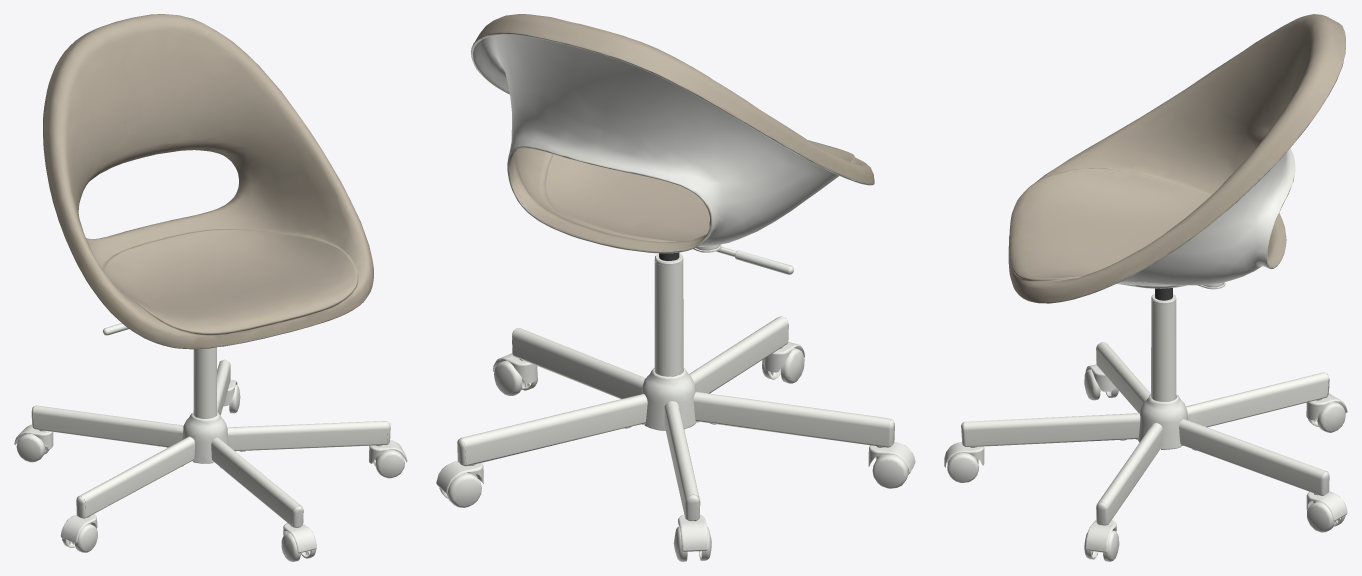
3 views of the same model, side by side, from view 1: azimuth 30°, elevation 25°; view 2: azimuth 150°, elevation 25°; view 3: azimuth 270°, elevation 25° (orthographic). The views are drawn at different scales.
Visible parts, largest first — view 1: 59444397; view 2: 59444397; view 3: 59444397.
Boxes of the visible parts, x1=… form: 59444397: x1=14, y1=14, x2=407, y2=561; 59444397: x1=436, y1=14, x2=915, y2=561; 59444397: x1=944, y1=14, x2=1347, y2=561.
Size of the model in its own units: 0.673 by 0.7801 by 0.641.
1 material, 1 textured.
